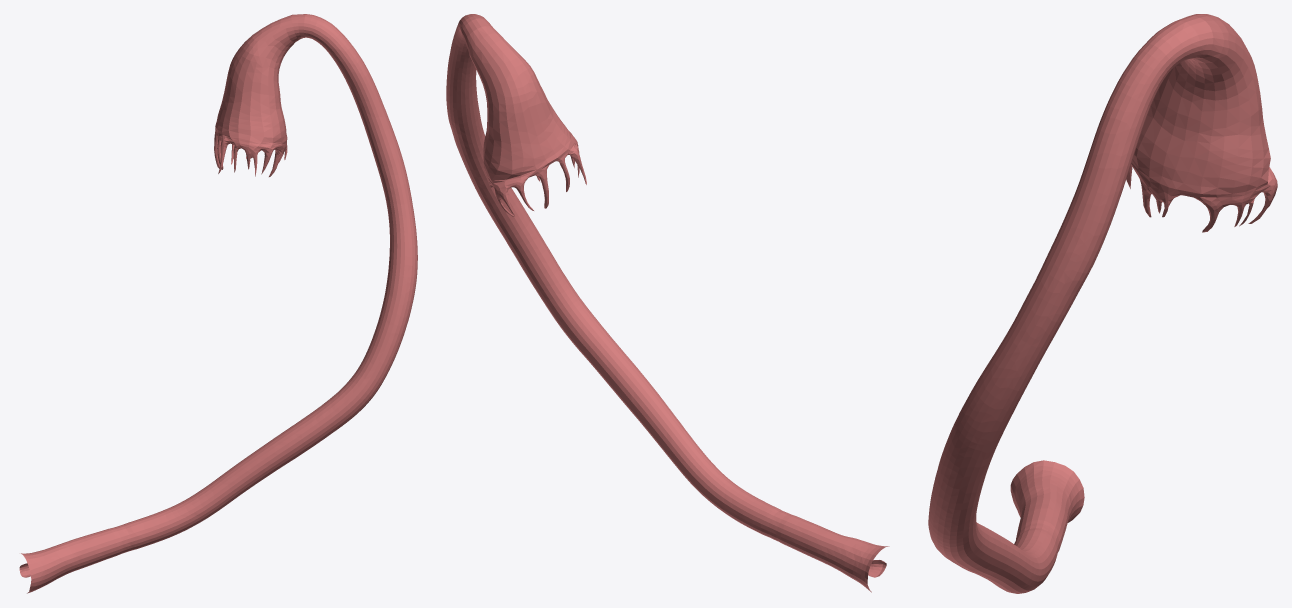
File: VH_F_Fallopian_Tube_L_0.6.glb
3 renders of one model, left to right at view 1: azimuth 30°, elevation 25°; view 2: azimuth 150°, elevation 25°; view 3: azimuth 270°, elevation 25°, orthographic. The views are drawn at different scales.
Parts seen in each view (by area): view 1: VH_F_ampulla_of_uterine_tube_L, VH_F_uterine_tube_infundibulum_L, VH_F_isthmus_of_fallopian_tube_L, VH_F_fibria_of_uterine_tube_L; view 2: VH_F_ampulla_of_uterine_tube_L, VH_F_uterine_tube_infundibulum_L, VH_F_isthmus_of_fallopian_tube_L, VH_F_fibria_of_uterine_tube_L; view 3: VH_F_ampulla_of_uterine_tube_L, VH_F_uterine_tube_infundibulum_L, VH_F_isthmus_of_fallopian_tube_L, VH_F_fibria_of_uterine_tube_L.
Part boxes in pixels (x1=…): VH_F_ampulla_of_uterine_tube_L: x1=118, y1=14, x2=417, y2=551; VH_F_uterine_tube_infundibulum_L: x1=215, y1=15, x2=299, y2=142; VH_F_isthmus_of_fallopian_tube_L: x1=19, y1=526, x2=127, y2=593; VH_F_fibria_of_uterine_tube_L: x1=214, y1=127, x2=287, y2=176; VH_F_ampulla_of_uterine_tube_L: x1=446, y1=14, x2=785, y2=539; VH_F_uterine_tube_infundibulum_L: x1=465, y1=26, x2=574, y2=180; VH_F_isthmus_of_fallopian_tube_L: x1=771, y1=512, x2=889, y2=592; VH_F_fibria_of_uterine_tube_L: x1=486, y1=137, x2=586, y2=216; VH_F_ampulla_of_uterine_tube_L: x1=928, y1=16, x2=1213, y2=593; VH_F_uterine_tube_infundibulum_L: x1=1133, y1=14, x2=1270, y2=194; VH_F_isthmus_of_fallopian_tube_L: x1=1010, y1=460, x2=1084, y2=551; VH_F_fibria_of_uterine_tube_L: x1=1126, y1=158, x2=1277, y2=232.
Size of the model in its own units: 0.0386 by 0.0445 by 0.0185.
